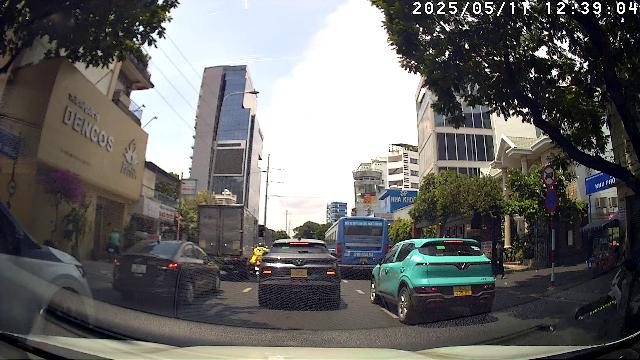131a-cam-do-xe: (545, 189, 557, 211)
